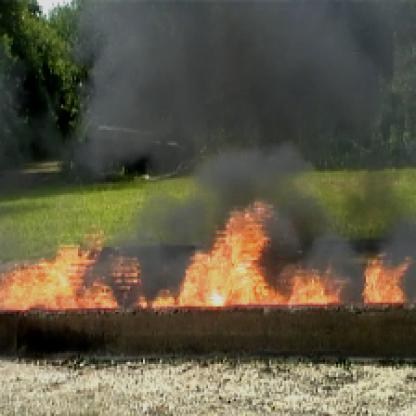Fire: (147, 199, 282, 314), (2, 234, 122, 318), (286, 247, 414, 308)
Smoke: (95, 2, 384, 189)
